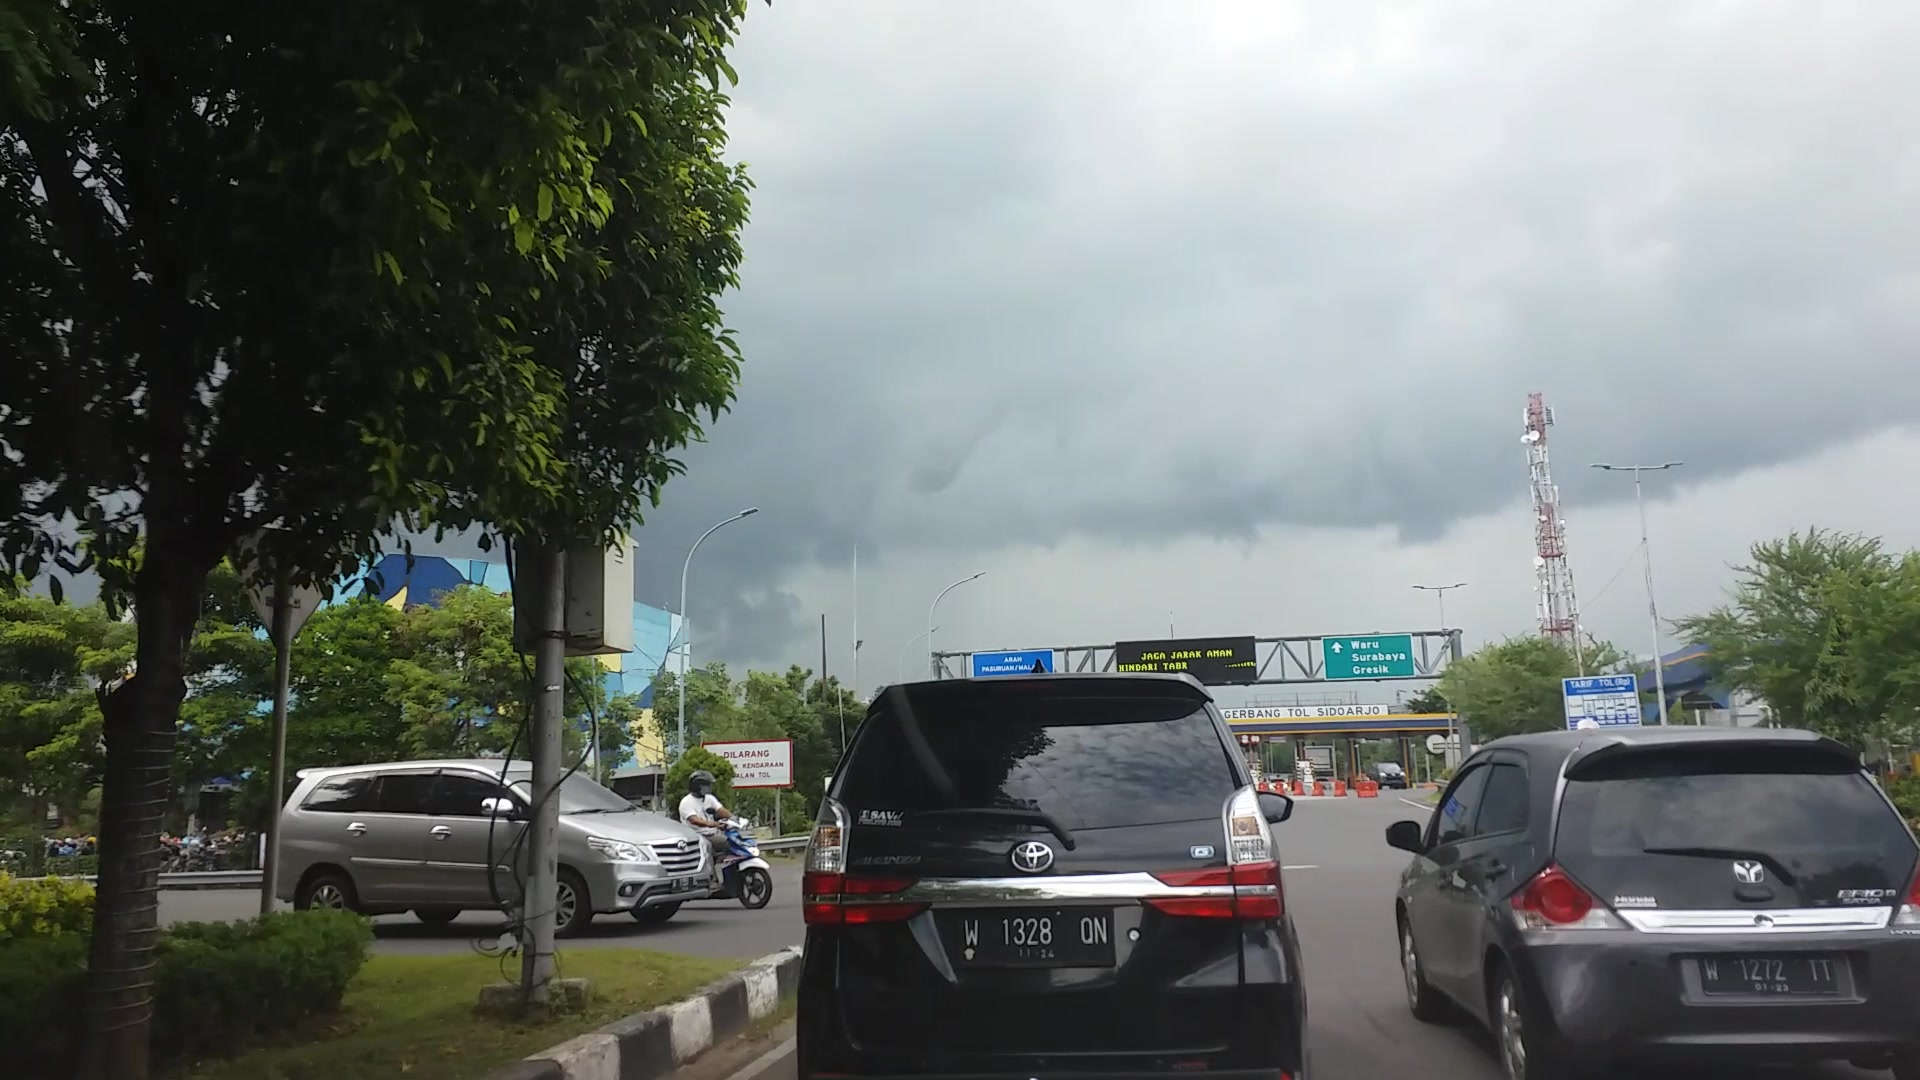plate_positive: (957, 909, 1116, 969), (1698, 953, 1838, 996)
